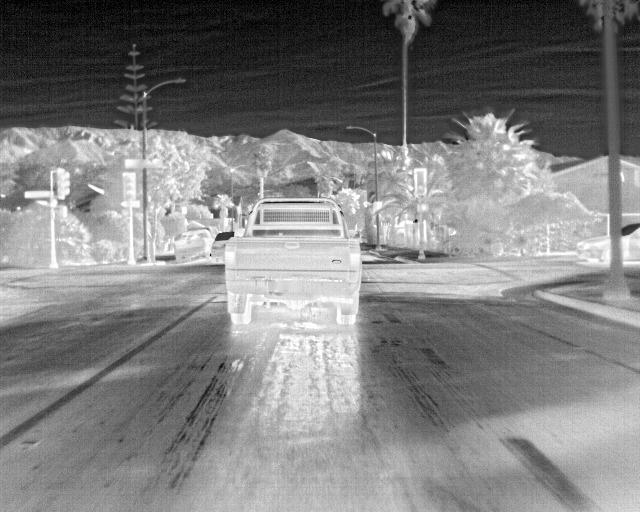car: (226, 195, 360, 325), (176, 228, 207, 260), (577, 236, 608, 267), (208, 228, 231, 262), (621, 222, 639, 264)
